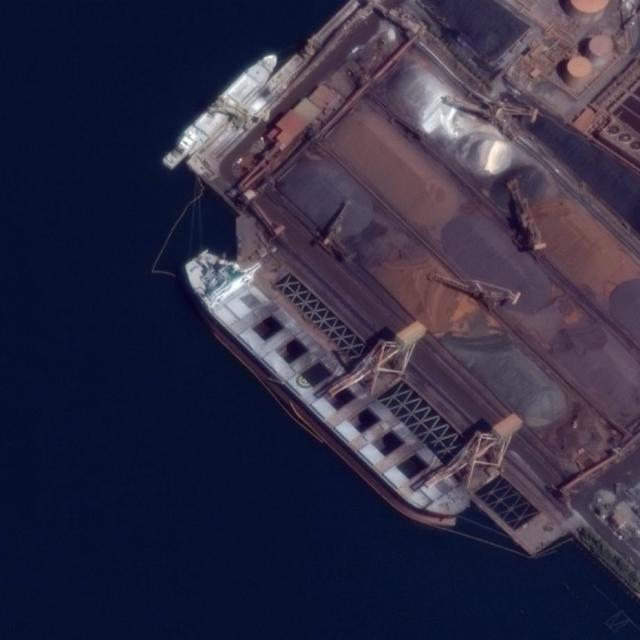Cargo: (163, 232, 487, 550)
Other Ship: (172, 47, 284, 160), (160, 131, 201, 172)
